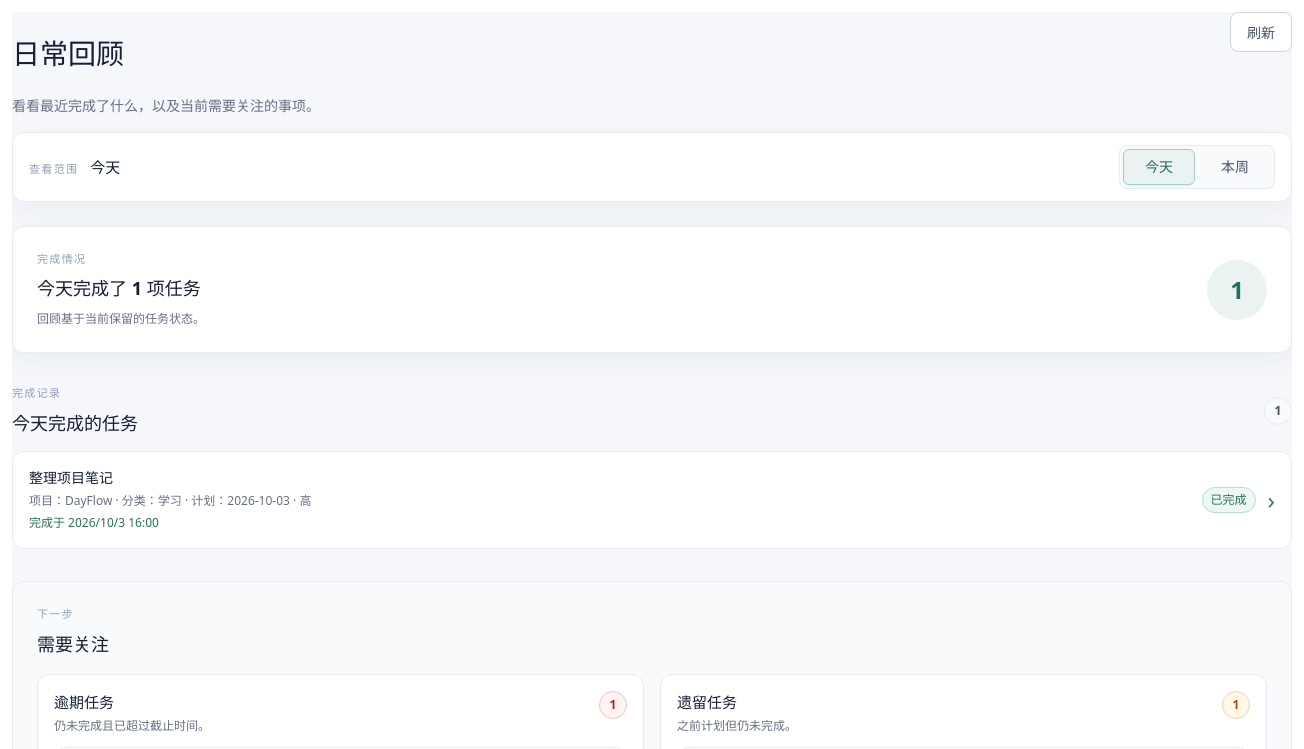
ReviewView › keeps existing review data when a refresh fails
What coordinates should you click on to do the following:
click the button with aria-label "刷新回顾"
I would click on:
 (1261, 32)
Its box is x1=1230 y1=12 x2=1292 y2=52.
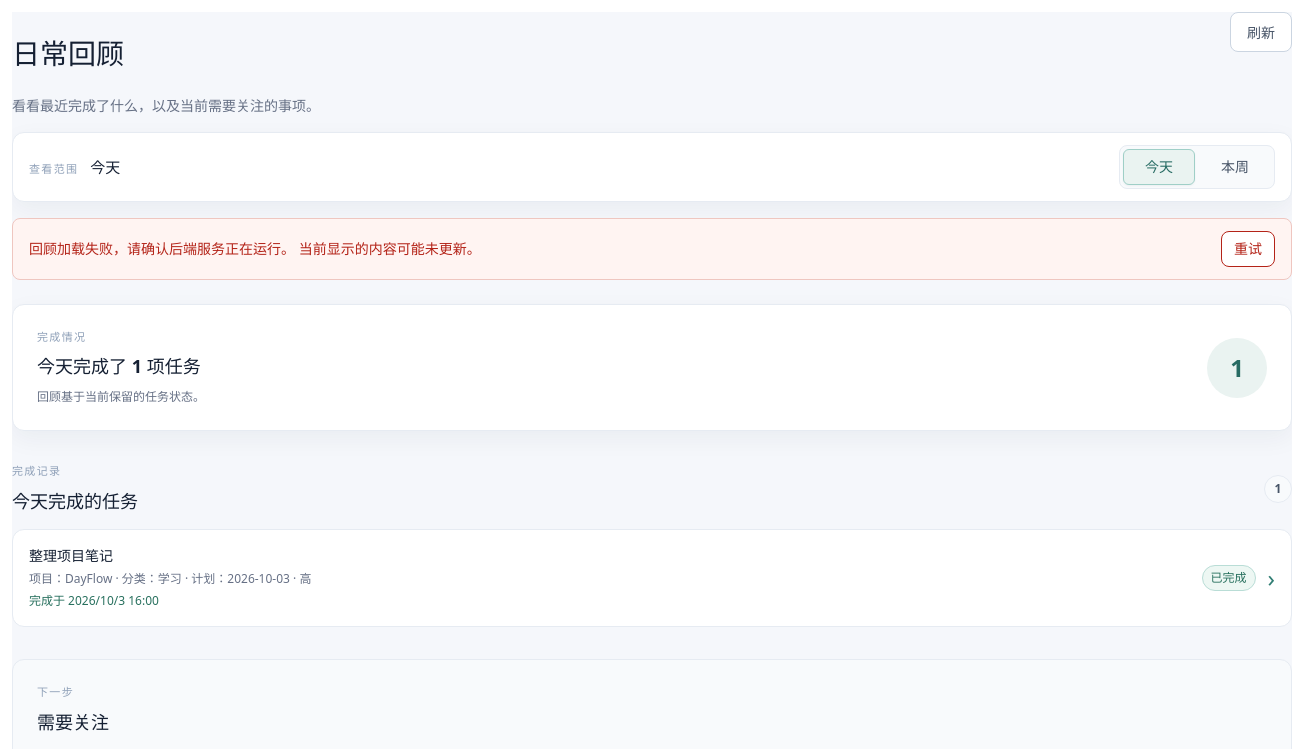
Expected: the text "整理项目笔记" is shown, x1=29 y1=546 x2=113 y2=565
Result: the text "当前显示的内容可能未更新" is shown at x1=29 y1=239 x2=481 y2=258
